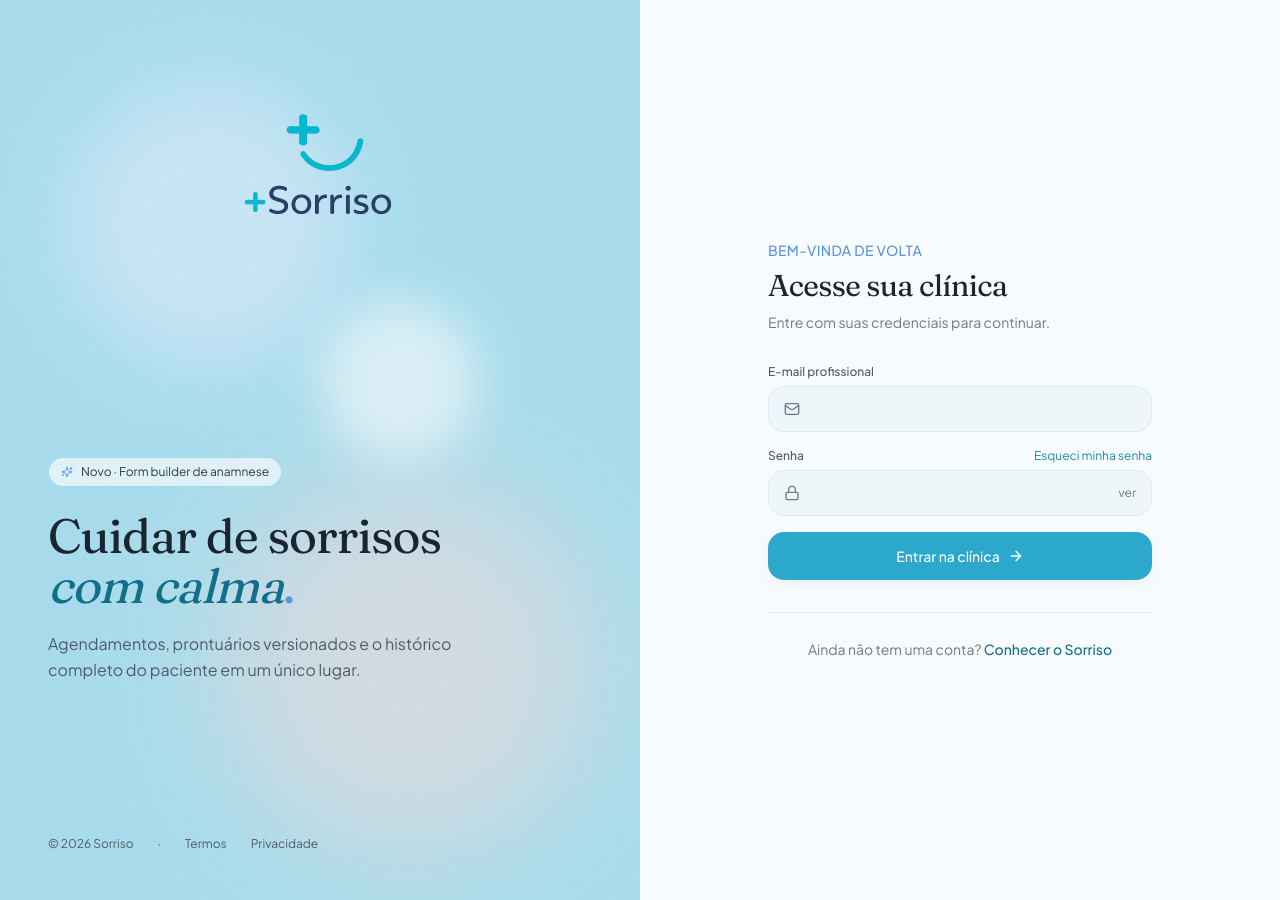
Test: SDD Phase 3 / Slice 1 — Auth flow › disables submit button while request is pending
In the field labelled "E-mail profissional": (960, 408) x1=768 y1=386 x2=1152 y2=432, type "a@b.c"
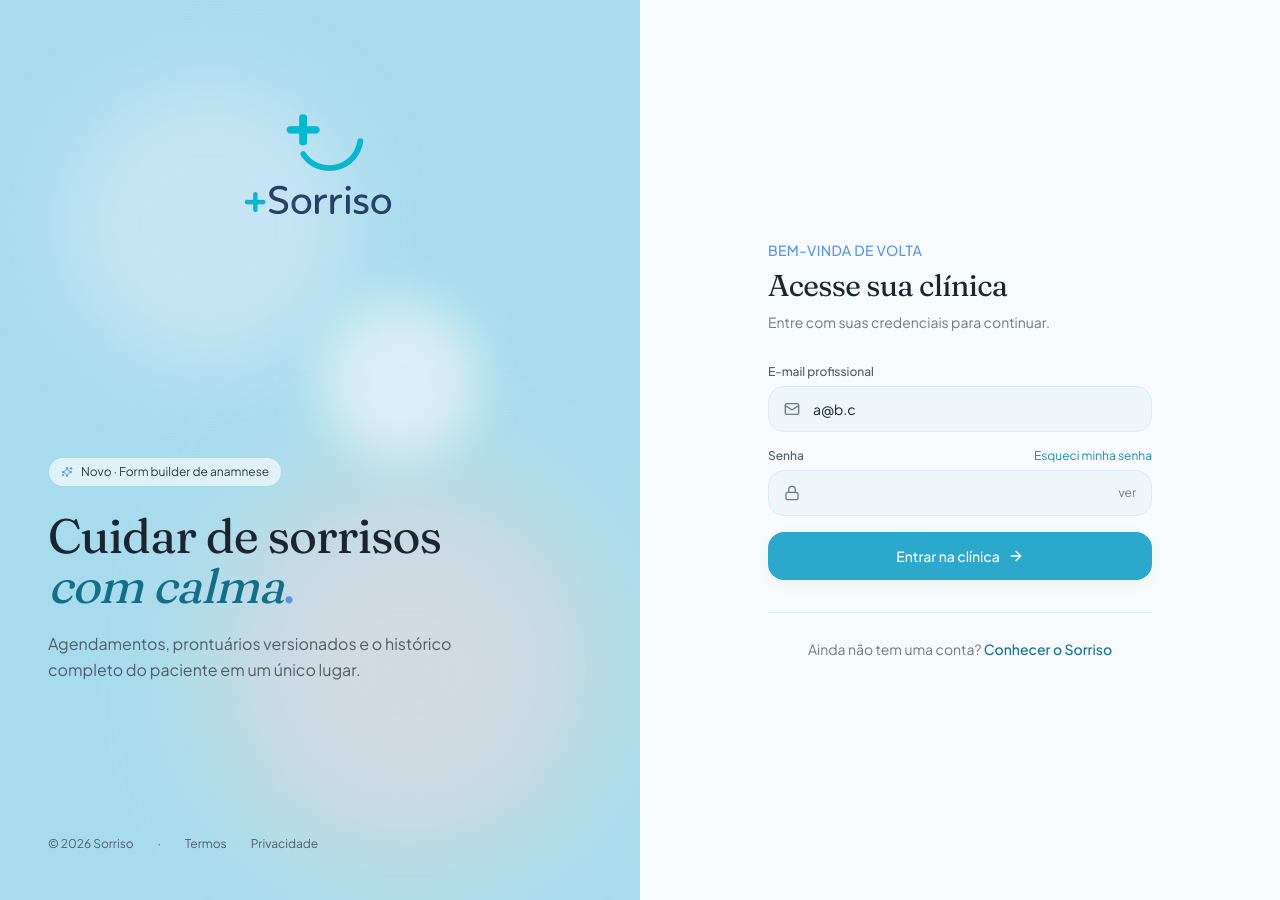
In the password field labelled "Senha": (960, 492) x1=768 y1=470 x2=1152 y2=516, type "x"
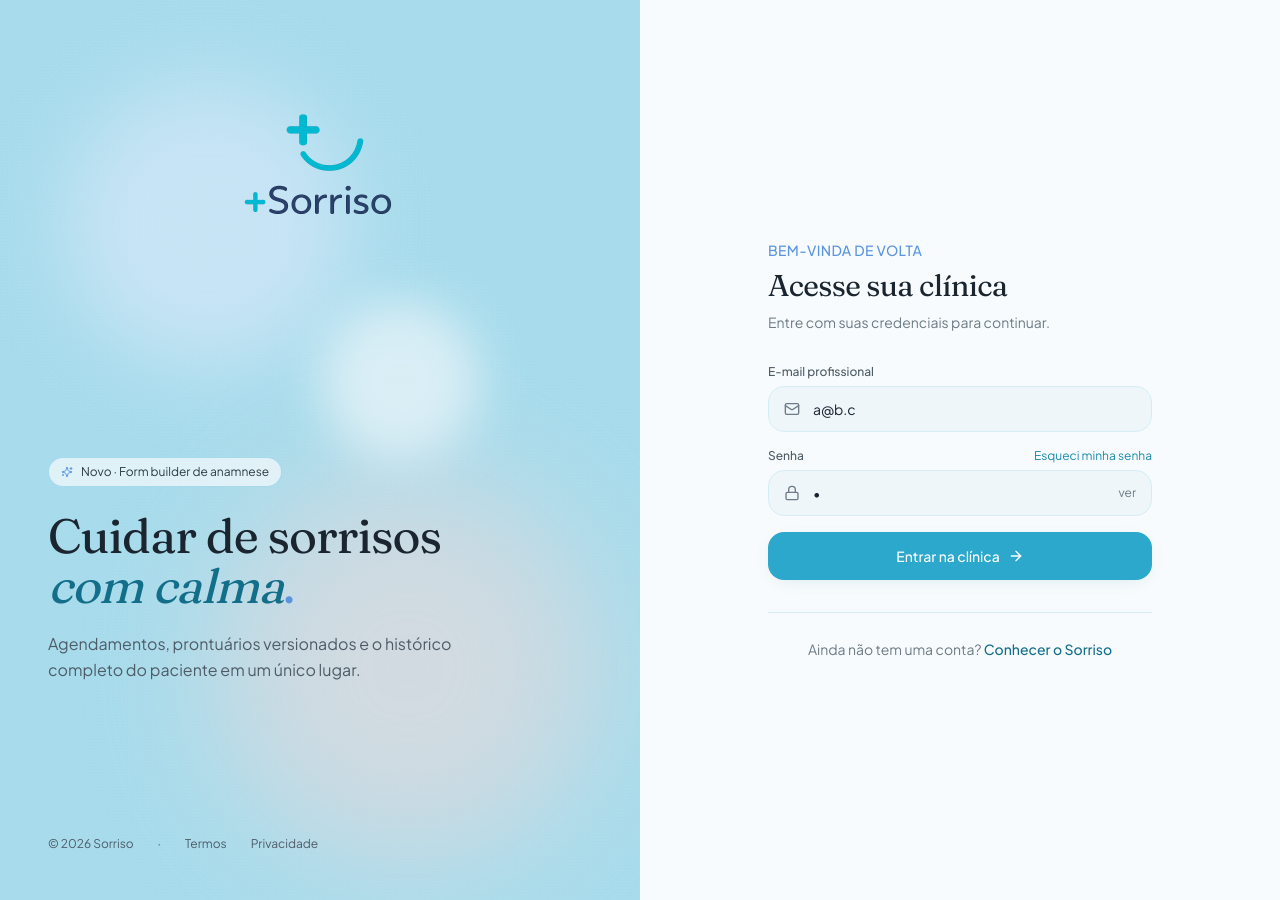
Click the button "Entrar na clínica": click(960, 556) x1=768 y1=532 x2=1152 y2=580
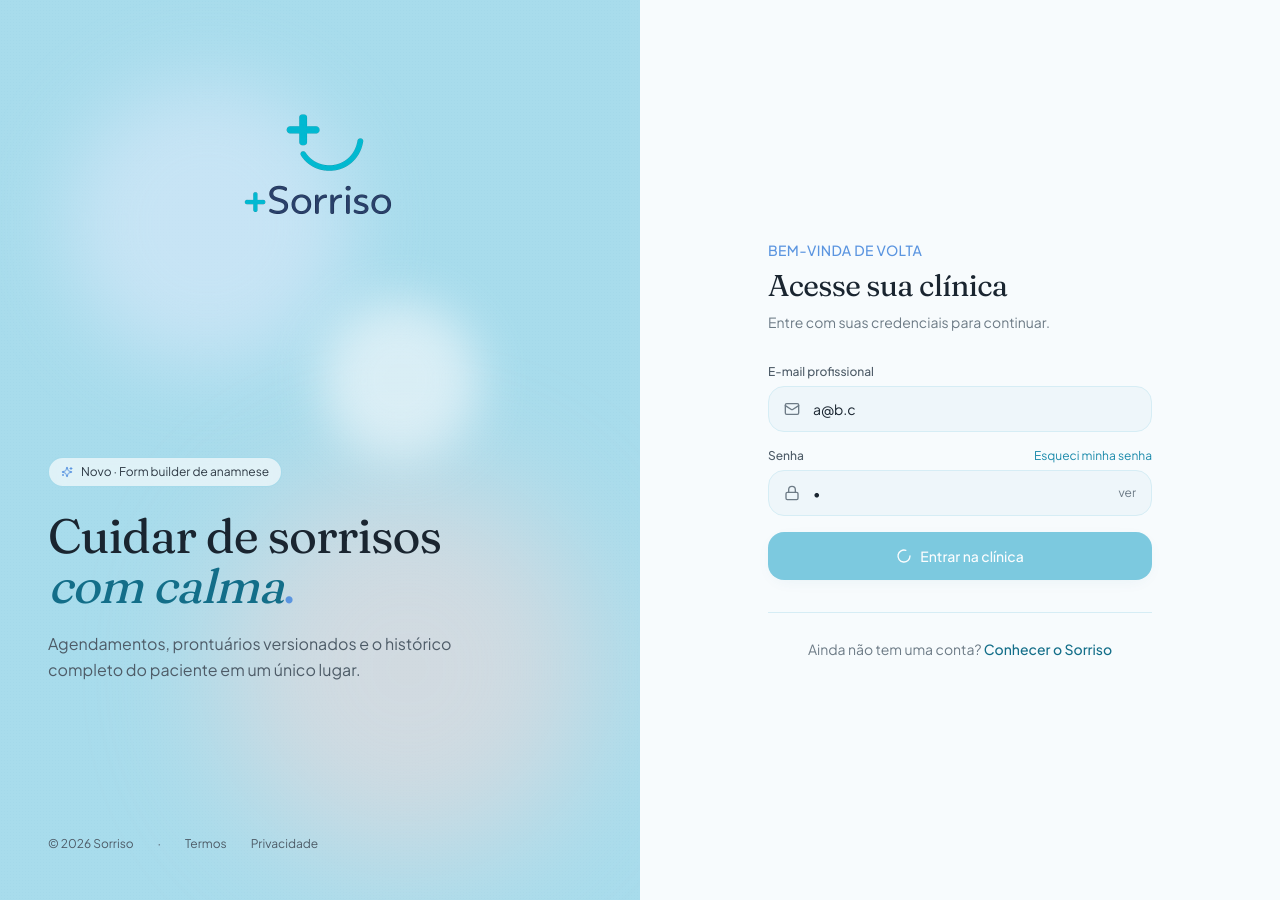
Result: the button "Entrar na clínica" is disabled at x1=768 y1=532 x2=1152 y2=580
